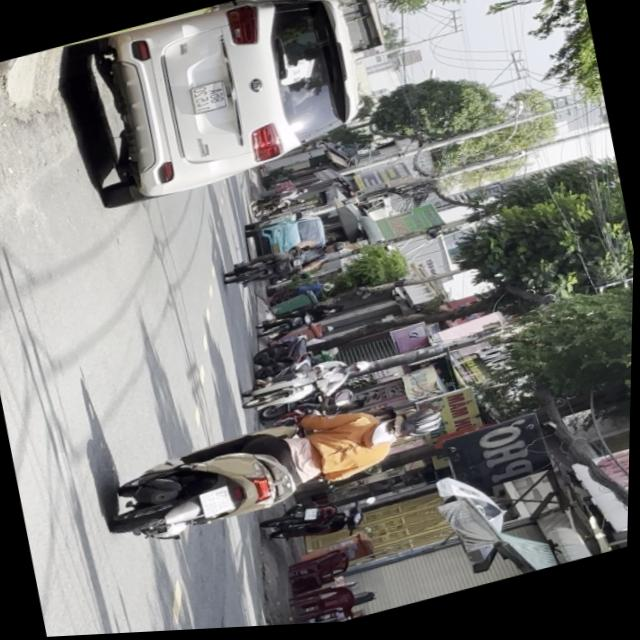helmet: (387, 406, 449, 449)
licenseplate: (102, 381, 460, 557)
nohelmet: (201, 486, 238, 520)
